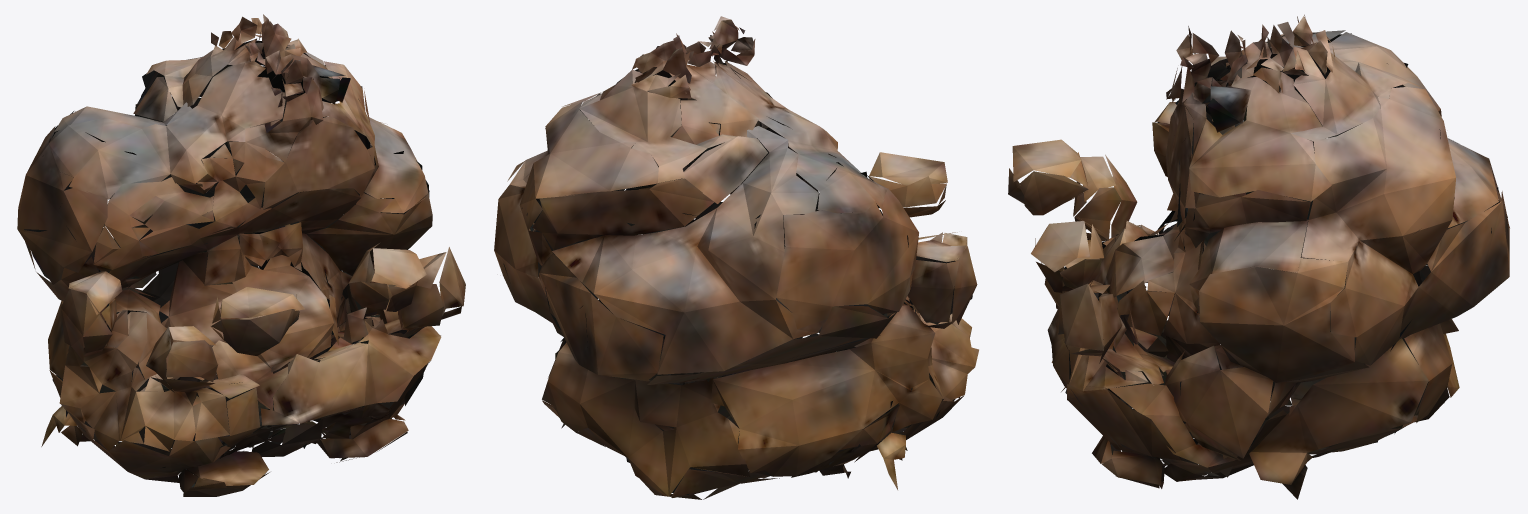
3 renders of one model, left to right at view 1: azimuth 30°, elevation 25°; view 2: azimuth 150°, elevation 25°; view 3: azimuth 270°, elevation 25°, orthographic. The views are drawn at different scales.
Parts seen in each view (by area): view 1: world; view 2: world; view 3: world.
Part boxes in pixels (x1,y1,x2,y2): world: [17, 14, 465, 496]; world: [494, 16, 978, 499]; world: [1008, 14, 1509, 499].
Size of the model in its own units: 0.9648 by 0.9643 by 0.9859.
Materials: 1 (1 with a texture image).
